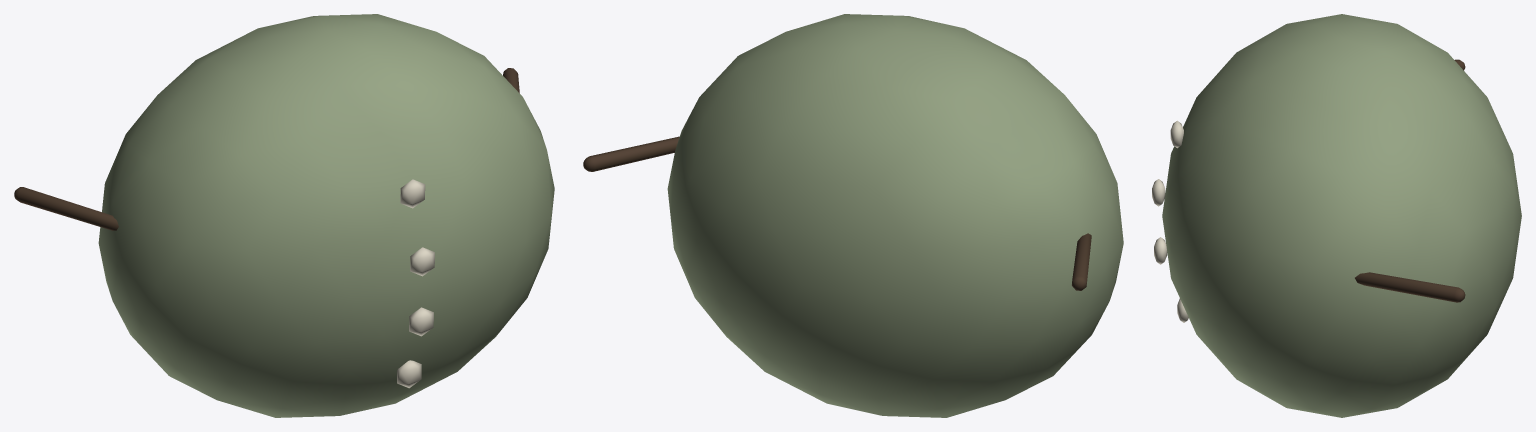
Rendered from outfit.librarian.glb.
The picture shows the model from 3 angles, left to right: view 1: azimuth 30°, elevation 25°; view 2: azimuth 150°, elevation 25°; view 3: azimuth 270°, elevation 25°; orthographic projection. The views are drawn at different scales.
Visible parts, largest first — view 1: cardigan, glasses; view 2: cardigan, glasses; view 3: cardigan, glasses.
Part boxes in pixels (bbox=[...]): cardigan: bbox=[98, 14, 554, 417]; glasses: bbox=[14, 68, 519, 230]; cardigan: bbox=[667, 14, 1123, 417]; glasses: bbox=[583, 136, 1091, 290]; cardigan: bbox=[1152, 14, 1521, 417]; glasses: bbox=[1355, 59, 1465, 302].
Bounding box in the file's own units: 0.4315 × 0.304 × 0.2879.
